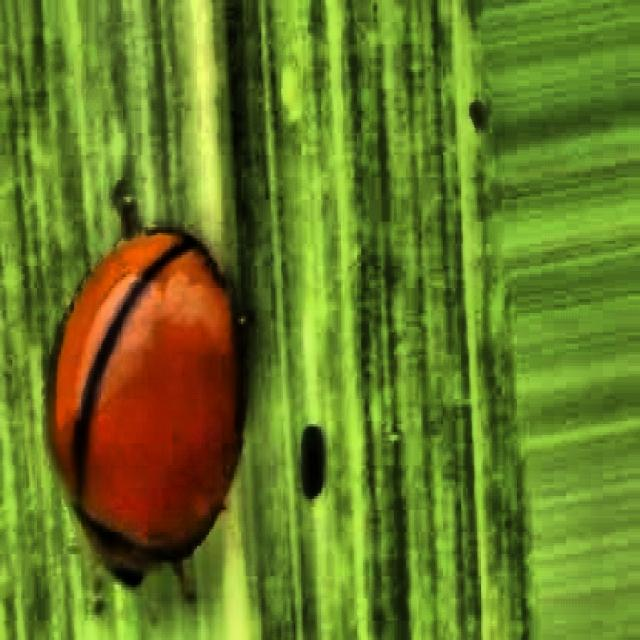Ladybug: (4, 135, 293, 640)
